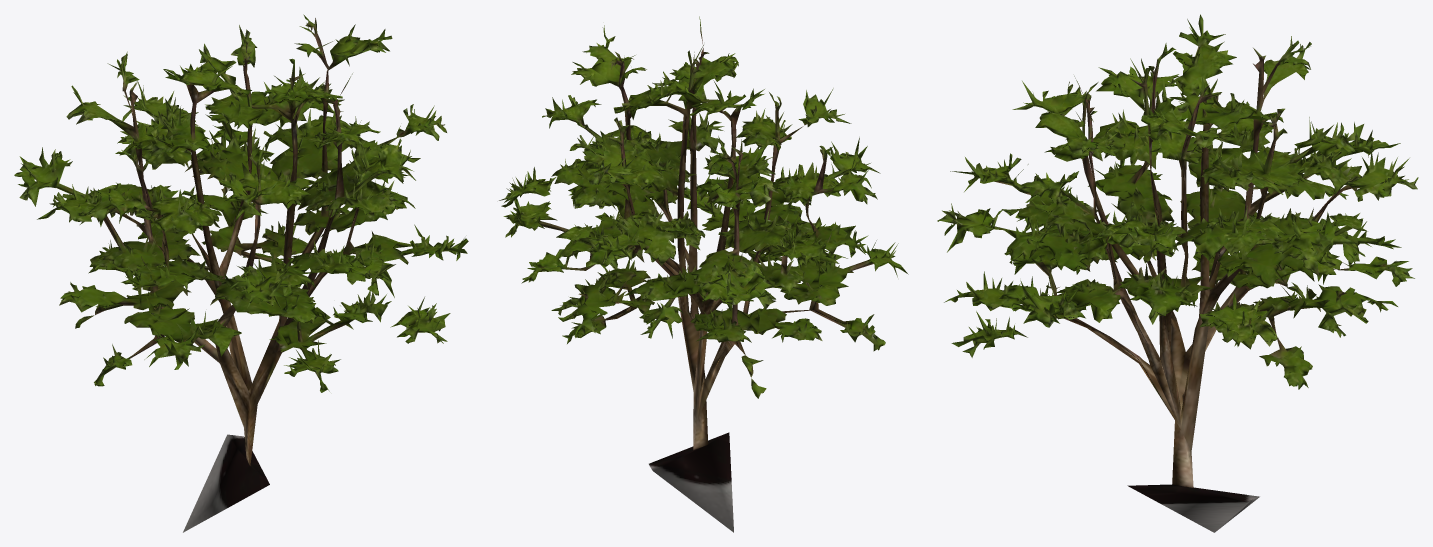
The model's file is tree_pot.glb.
3 renders of one model, left to right at view 1: azimuth 30°, elevation 25°; view 2: azimuth 150°, elevation 25°; view 3: azimuth 270°, elevation 25°, orthographic. The views are drawn at different scales.
Parts seen in each view (by area): view 1: tripo_node_1b0d959a-7cf9-4ce7-a38e-07beb3e64792; view 2: tripo_node_1b0d959a-7cf9-4ce7-a38e-07beb3e64792; view 3: tripo_node_1b0d959a-7cf9-4ce7-a38e-07beb3e64792.
Boxes of the visible parts, <box> form: tripo_node_1b0d959a-7cf9-4ce7-a38e-07beb3e64792: <box>14,14,468,532</box>; tripo_node_1b0d959a-7cf9-4ce7-a38e-07beb3e64792: <box>499,16,908,532</box>; tripo_node_1b0d959a-7cf9-4ce7-a38e-07beb3e64792: <box>937,14,1418,532</box>.
Size of the model in its own units: 0.8621 by 1.09 by 0.919.
1 material, 1 textured.
